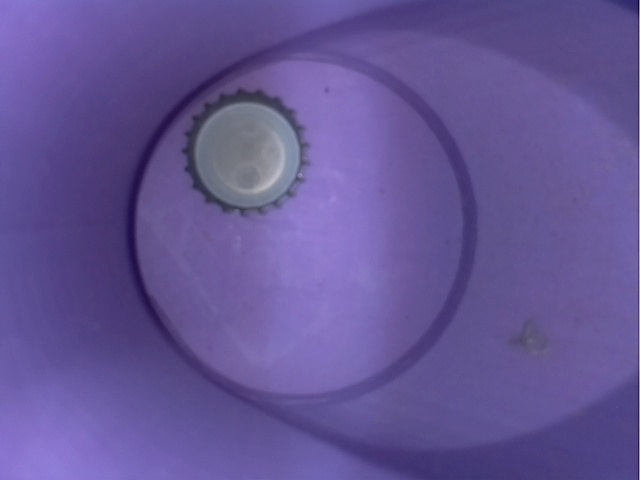capsule: (166, 74, 350, 227)
